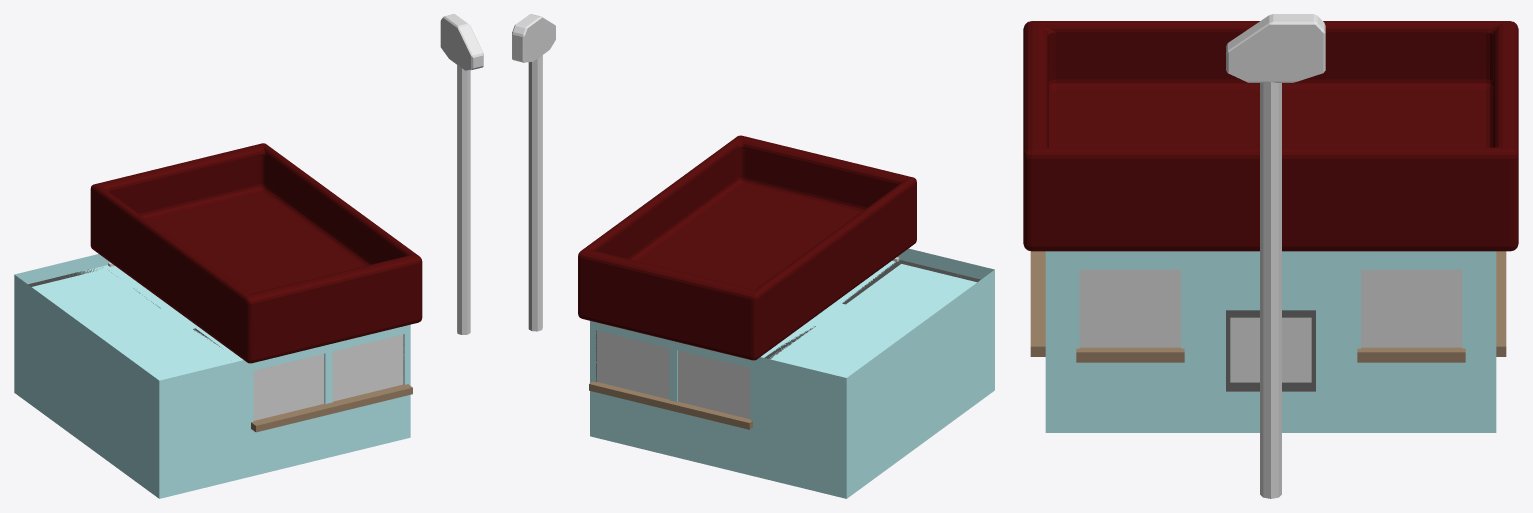
The model's file is mod_building_diner.fbx.
3 views of the same model, side by side, from view 1: azimuth 30°, elevation 25°; view 2: azimuth 150°, elevation 25°; view 3: azimuth 270°, elevation 25° (orthographic). The views are drawn at different scales.
Visible parts, largest first — view 1: Cube.005, Cube.001, Cube.003, Cube, windowPane.003, Cylinder, windowSill.003, Cube.006; view 2: Cube.005, Cube.001, Cube.003, Cube, windowPane.002, Cylinder, windowSill.002, Cube.006; view 3: Cube.005, Cube.001, Cube, Cylinder, Cube.003, windowPane, windowPane.001, Cube.006, Door, Door.001, windowSill, windowSill.001 (+2 smaller).
Boxes of the visible parts, <box> form: Cube.005: <box>90,143,422,363</box>; Cube.001: <box>14,267,410,472</box>; Cube.003: <box>14,254,410,393</box>; Cube: <box>14,367,410,498</box>; windowPane.003: <box>253,334,403,420</box>; Cylinder: <box>457,65,470,334</box>; windowSill.003: <box>251,384,412,432</box>; Cube.006: <box>440,14,483,71</box>; Cube.005: <box>578,135,916,360</box>; Cube.001: <box>590,259,994,471</box>; Cube.003: <box>590,248,994,391</box>; Cube: <box>590,364,994,498</box>; windowPane.002: <box>597,330,750,418</box>; Cylinder: <box>528,55,542,331</box>; windowSill.002: <box>589,381,752,429</box>; Cube.006: <box>512,14,555,62</box>; Cube.005: <box>1023,21,1518,251</box>; Cube.001: <box>1045,269,1496,391</box>; Cube: <box>1045,391,1496,432</box>; Cylinder: <box>1260,82,1281,498</box>; Cube.003: <box>1045,251,1496,269</box>; windowPane: <box>1361,269,1462,347</box>; windowPane.001: <box>1079,269,1180,347</box>; Cube.006: <box>1226,14,1325,82</box>; Door: <box>1282,310,1315,390</box>; Door.001: <box>1226,310,1259,390</box>; windowSill: <box>1357,347,1465,362</box>; windowSill.001: <box>1076,347,1184,362</box>.
Size of the model in its own units: 3050 by 2500 by 2200.
